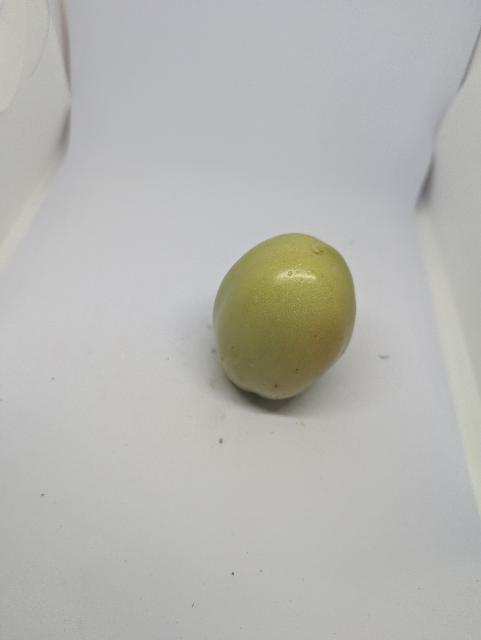green: (212, 230, 360, 401)
